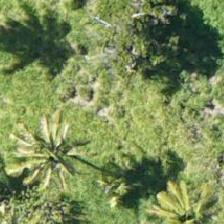coconut_tree: (1, 115, 91, 205), (139, 171, 223, 223)
